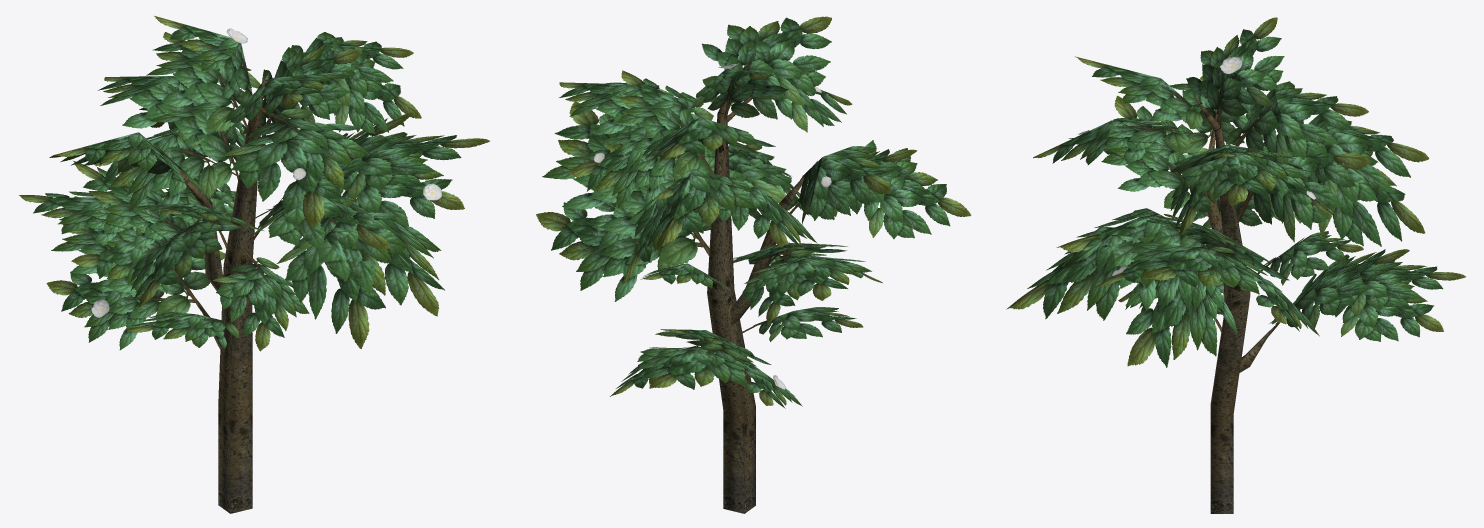
The model's file is camellia.dae.
3 renders of one model, left to right at view 1: azimuth 30°, elevation 25°; view 2: azimuth 150°, elevation 25°; view 3: azimuth 270°, elevation 25°, orthographic. The views are drawn at different scales.
Parts seen in each view (by area): view 1: camellia; view 2: camellia; view 3: camellia.
Boxes of the visible parts, box(x1,y1,x2,y2) form: camellia: box(19, 16, 489, 513); camellia: box(536, 16, 971, 513); camellia: box(1006, 17, 1465, 513).
Size of the model in its own units: 0.5462 by 0.6436 by 0.5833.
1 material, 1 textured.
